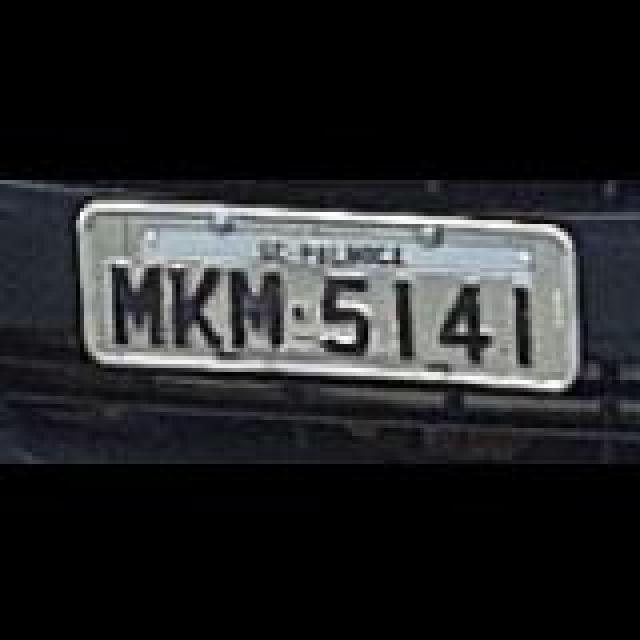1: (514, 282, 542, 366), (392, 274, 416, 358)
4: (438, 278, 498, 362)
5: (320, 270, 376, 354)
K: (172, 262, 228, 346)
M: (112, 262, 168, 346), (232, 268, 288, 348)
